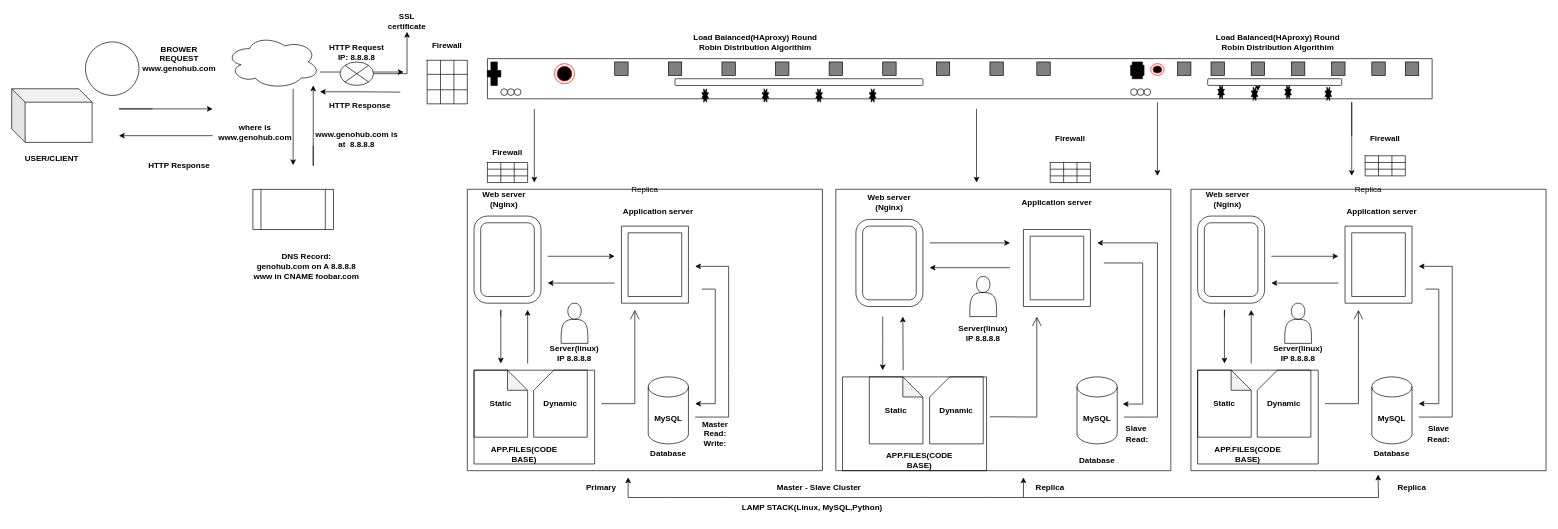
Image size: 1558x529. Some labels were removed from this diagram. Each missing label, with the centre of its shape:
chrome: the point at 112,68
COMPUTER: the point at 51,115
DNS Server: the point at 292,209
INTERNET: the point at 272,62
